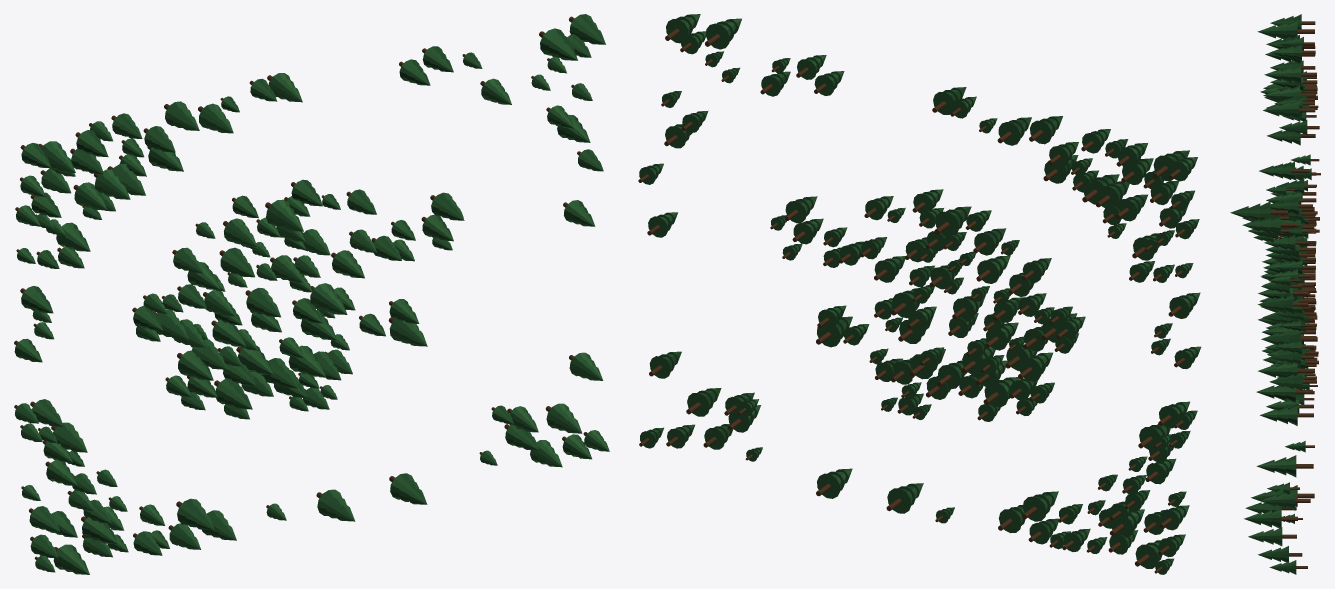
The model's file is forest_clusters.obj.
3 renders of one model, left to right at view 1: azimuth 30°, elevation 25°; view 2: azimuth 150°, elevation 25°; view 3: azimuth 270°, elevation 25°, orthographic. The views are drawn at different scales.
Visible parts, largest first — view 1: forest_clusters; view 2: forest_clusters; view 3: forest_clusters.
Boxes of the visible parts, box(x1,y1,x2,y2) form: forest_clusters: box(14, 14, 609, 574); forest_clusters: box(638, 14, 1201, 574); forest_clusters: box(1230, 14, 1320, 574).
Size of the model in its own units: 75.93 by 56.79 by 13.06.
